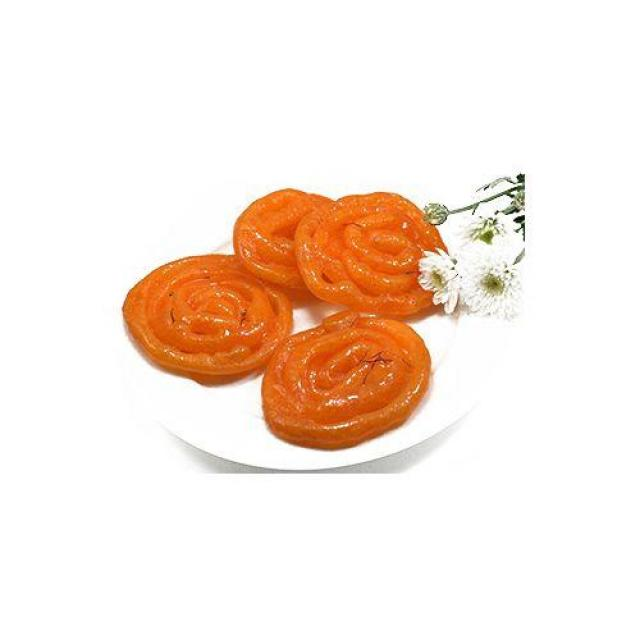jalebi: (117, 204, 448, 440)
